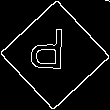P_S: (36, 29, 74, 81)
